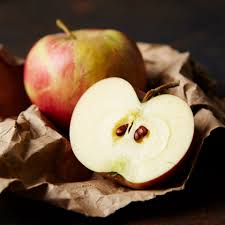apple: (26, 29, 148, 119)
damaged_apple: (69, 77, 200, 190)
